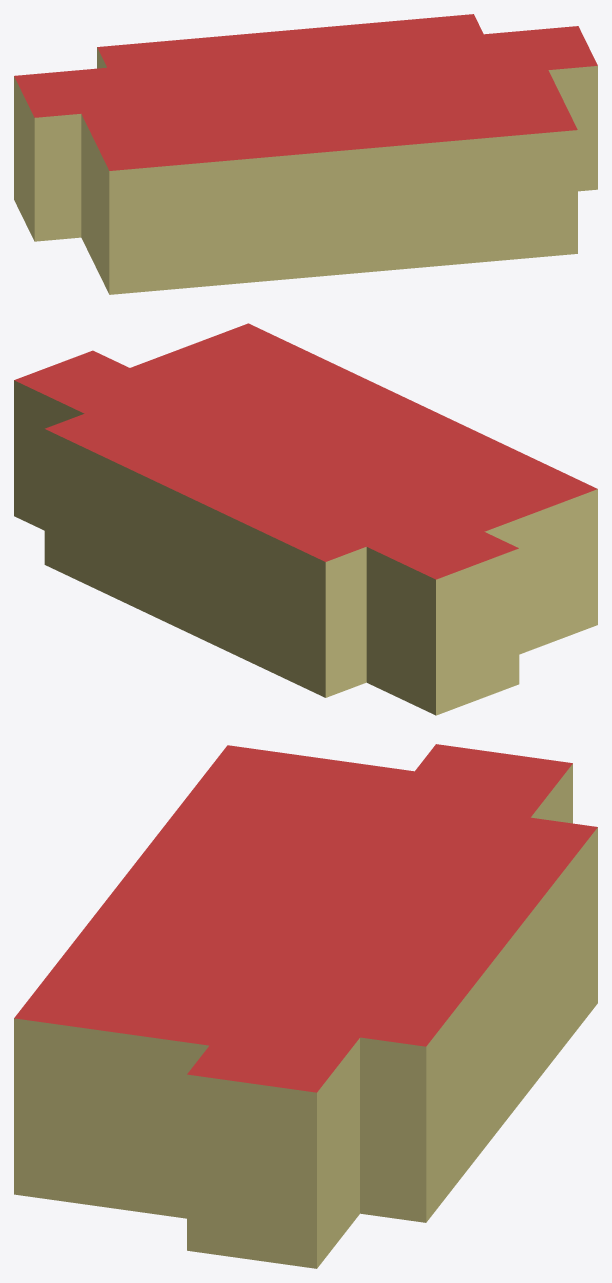
The picture shows the model from 3 angles, top to bottom: view 1: azimuth 30°, elevation 25°; view 2: azimuth 150°, elevation 25°; view 3: azimuth 270°, elevation 25°; orthographic projection. The views are drawn at different scales.
Size of the model in its own units: 30.37 by 21.5 by 7.16.
